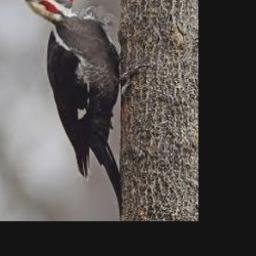Woodpecker: (14, 0, 149, 219)
